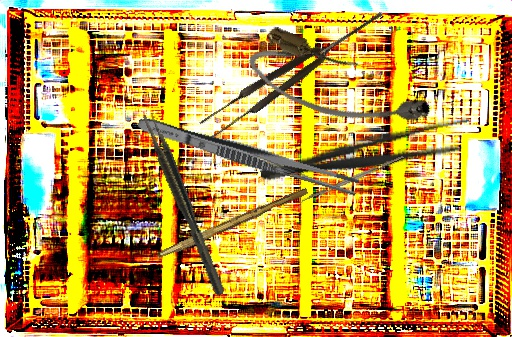Cannula: (241, 21, 438, 153)
Chopper: (295, 154, 407, 210)
Dressing Forceps: (135, 113, 361, 197), (257, 113, 476, 194)
Scalpel Handle: (157, 184, 309, 263)
Tissue Forceps: (196, 3, 391, 142), (140, 109, 226, 299)
